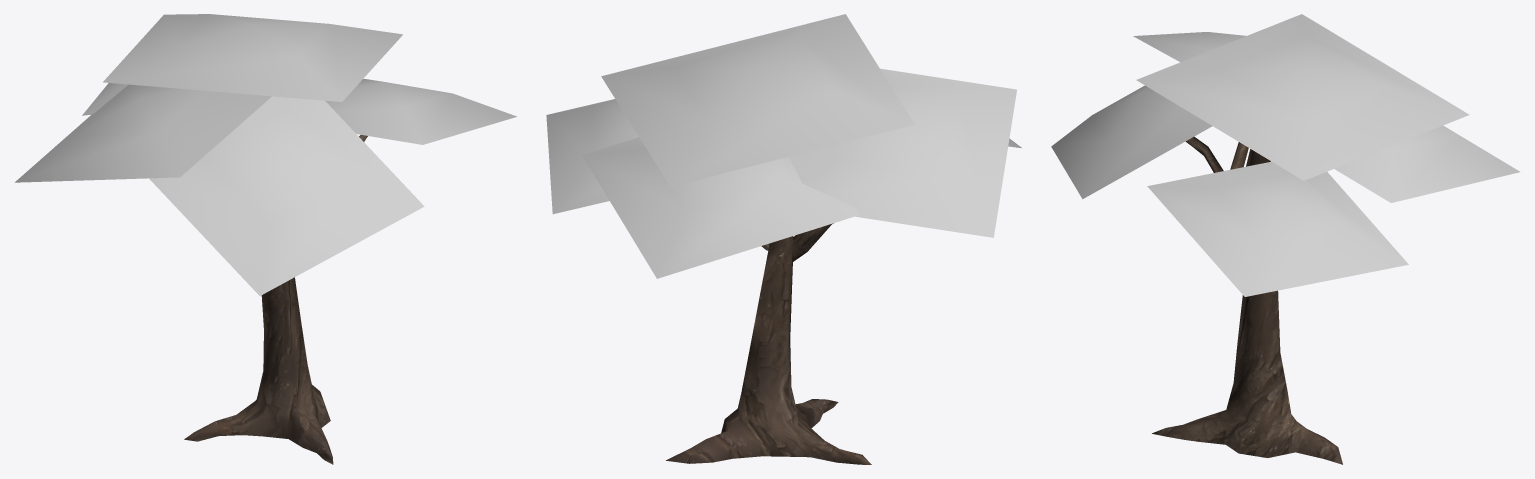
The model's file is Tree_6.FBX.
3 renders of one model, left to right at view 1: azimuth 30°, elevation 25°; view 2: azimuth 150°, elevation 25°; view 3: azimuth 270°, elevation 25°, orthographic. The views are drawn at different scales.
Visible parts, largest first — view 1: Object009, Object008; view 2: Object009, Object008; view 3: Object009, Object008.
Boxes of the visible parts, x1,y1,x2,y2 form: Object009: (15, 14, 516, 295); Object008: (184, 135, 367, 464); Object009: (546, 14, 1021, 278); Object008: (666, 223, 871, 464); Object009: (1051, 14, 1519, 296); Object008: (1152, 136, 1342, 464).
Size of the model in its own units: 196 by 153 by 178.
